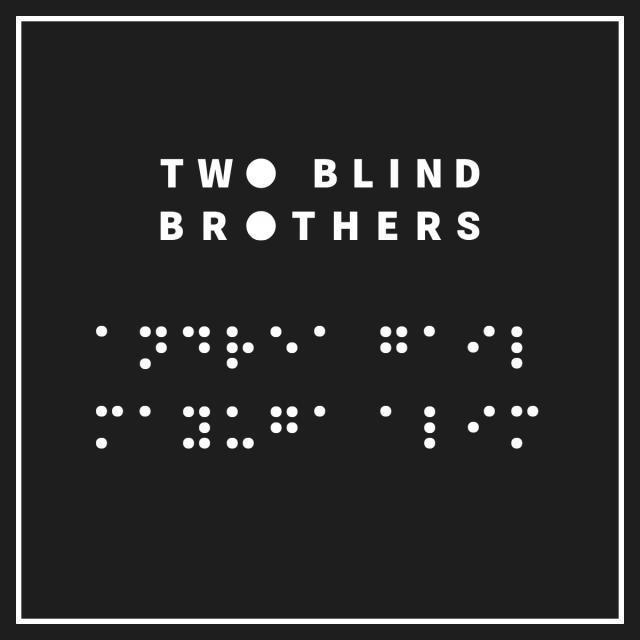braiile: (92, 320, 132, 375), (507, 398, 544, 454), (464, 399, 499, 454), (178, 320, 212, 375), (507, 321, 542, 374), (136, 320, 170, 374), (266, 401, 302, 452), (376, 400, 411, 452), (267, 321, 301, 374), (178, 402, 214, 452), (309, 401, 344, 452), (310, 322, 344, 374), (377, 322, 411, 372), (418, 322, 452, 372), (464, 322, 498, 372), (224, 402, 258, 452), (420, 401, 452, 454), (92, 402, 126, 451), (224, 322, 256, 374), (137, 401, 170, 450)
